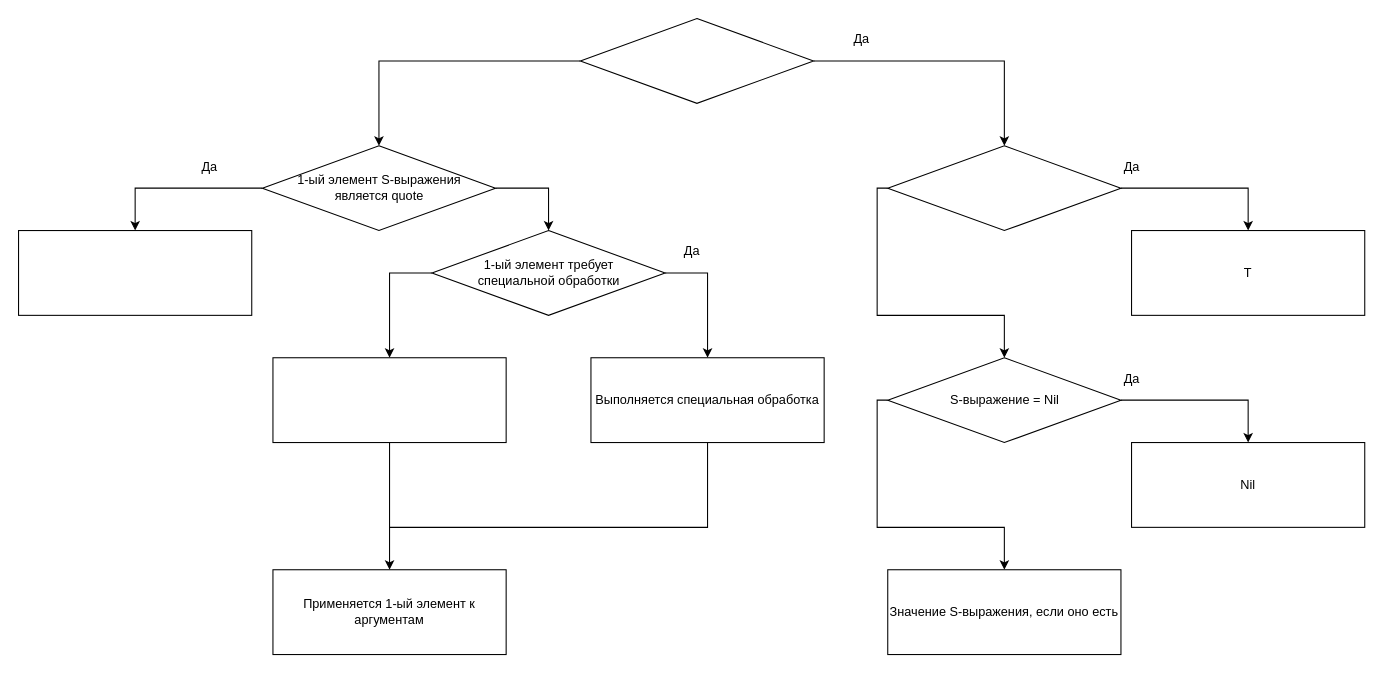
Some shapes in this 1383 by 673 pixel diagram are drawn without their labels. Each missing label, with the centre of its shape:
"S-выражение" goes at (134,272).
"S-выражение - атом" goes at (696,60).
"S-выражение = T" goes at (1004,188).
"Применяется eval ко всем аргументам" goes at (389,400).
